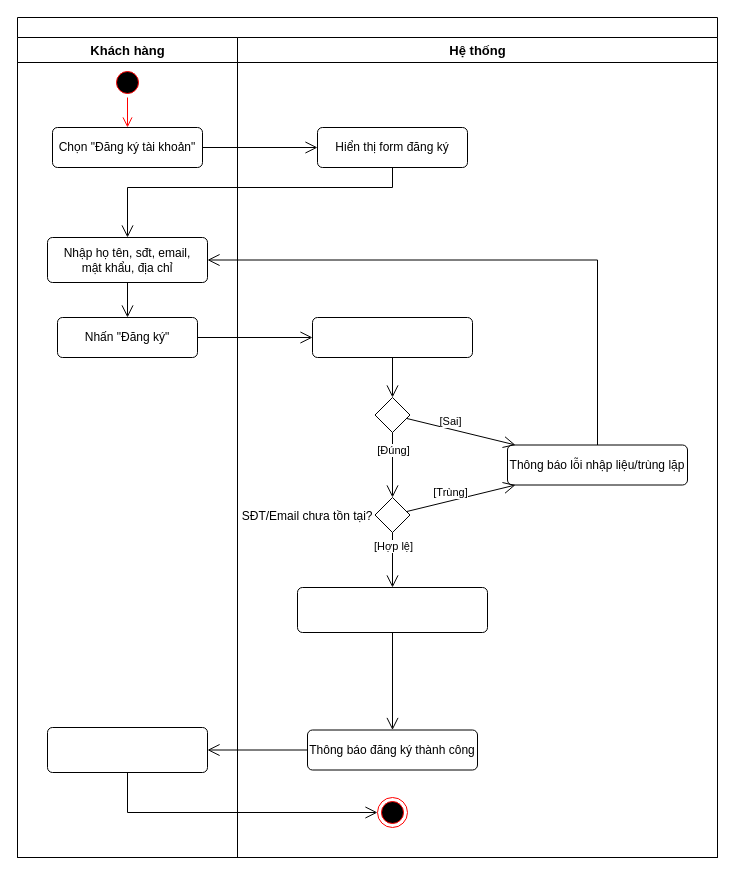
This 735x875 diagram has some shape labels left out. Each missing label, with the box of its shape:
Kiểm tra tính hợp lệ dữ liệu: (312, 316, 472, 358)
Lưu thông tin vào bảng KhachHang & khởi tạo tài khoản: (296, 586, 488, 632)
Nhận thông báo đăng ký thành công: (46, 726, 208, 772)
Đúng định dạng?: (374, 396, 410, 432)
